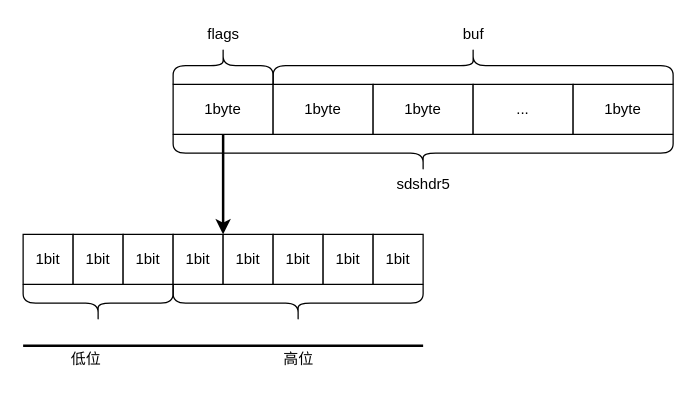
Image size: 695x393. Some labels were removed from this diagram. Each missing label, with the box of its shape:
len: (172, 283, 423, 322)
type: (22, 283, 173, 322)
